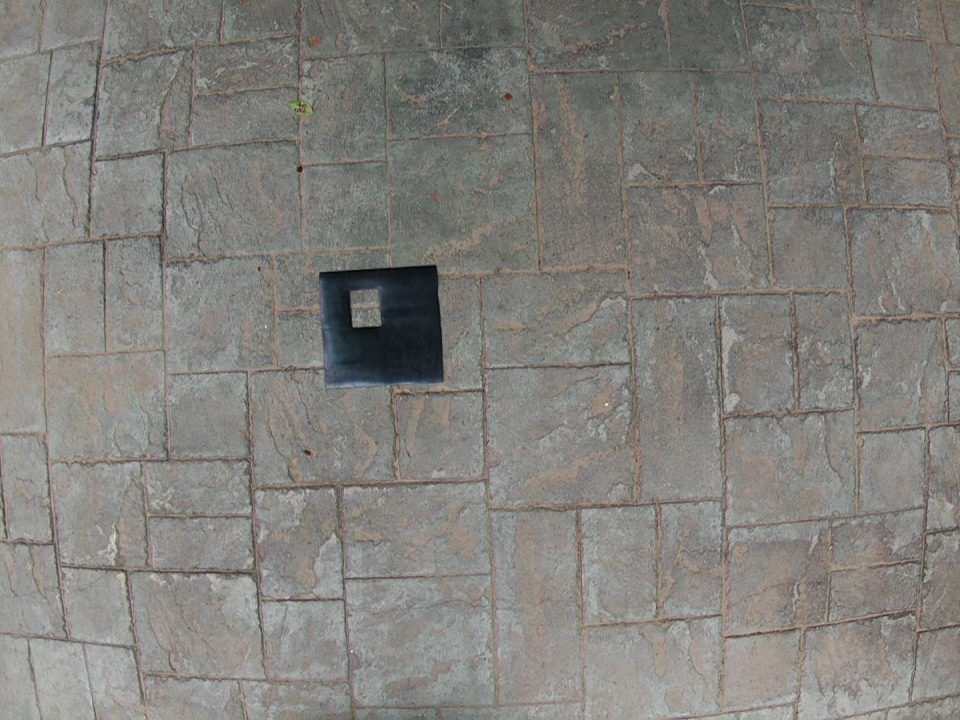qrcode: (320, 265, 443, 385)
